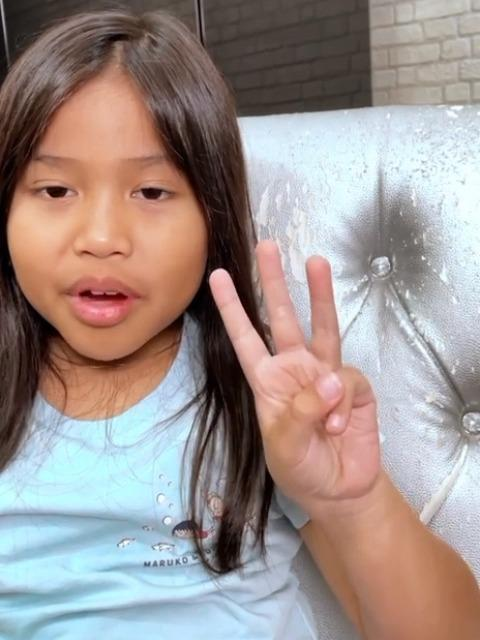W: (205, 234, 386, 503)
